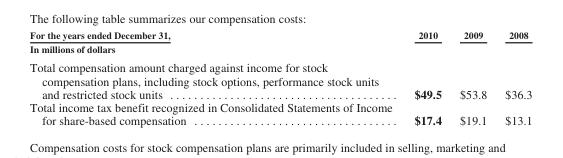table: (29, 28, 531, 127)
table column: (29, 28, 402, 127), (402, 28, 449, 127), (449, 28, 495, 127), (495, 28, 531, 127)
table column header: (29, 28, 531, 41)
table projected row header: (29, 41, 531, 57)
table row: (29, 57, 531, 100), (29, 100, 531, 127), (29, 41, 531, 57), (29, 28, 531, 41)
